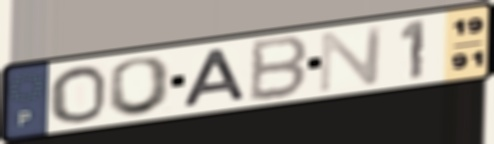1: (397, 17, 428, 83)
A: (180, 45, 250, 110)
B: (246, 33, 311, 105)
N: (315, 22, 387, 95)
O: (104, 54, 176, 118), (47, 64, 109, 124)
